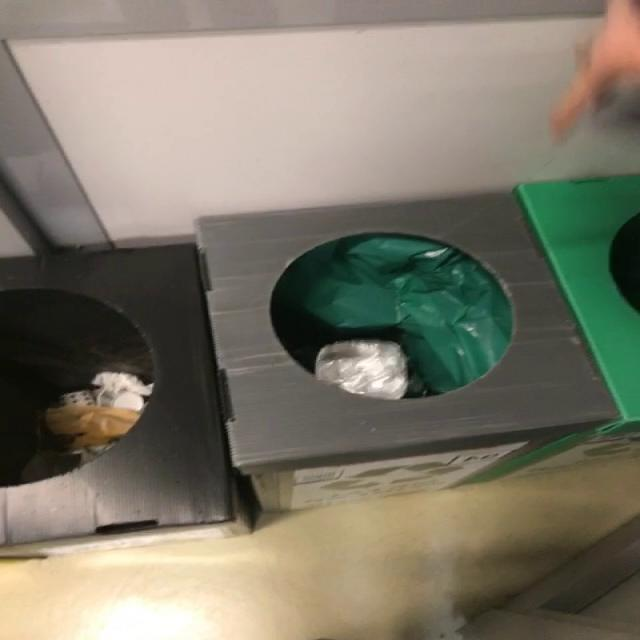bin: (0, 193, 615, 544)
metal: (316, 340, 407, 400)
